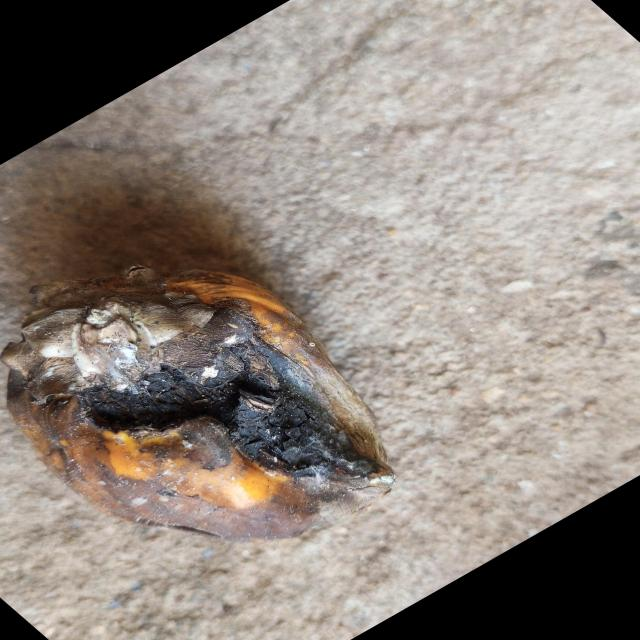damaged: (5, 272, 394, 542)
